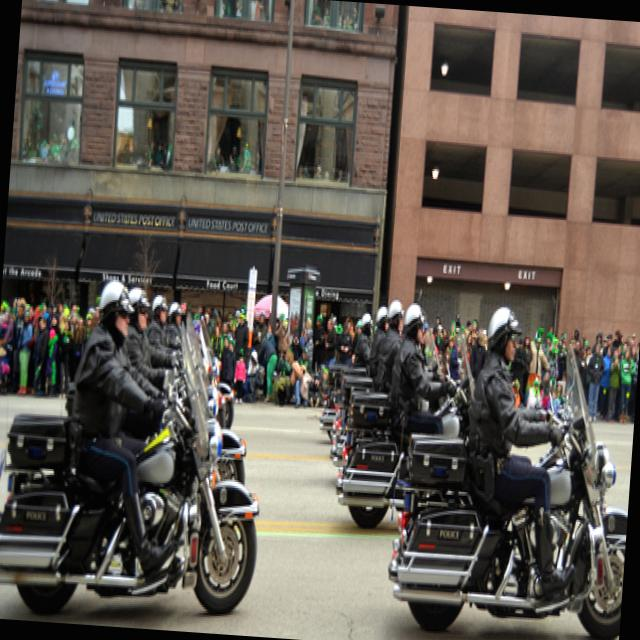Vehicle: (0, 332, 271, 636), (383, 363, 636, 640), (334, 369, 470, 511), (172, 319, 255, 480), (338, 409, 439, 521), (188, 316, 234, 428), (330, 372, 376, 460), (318, 359, 364, 424), (213, 381, 237, 430)
